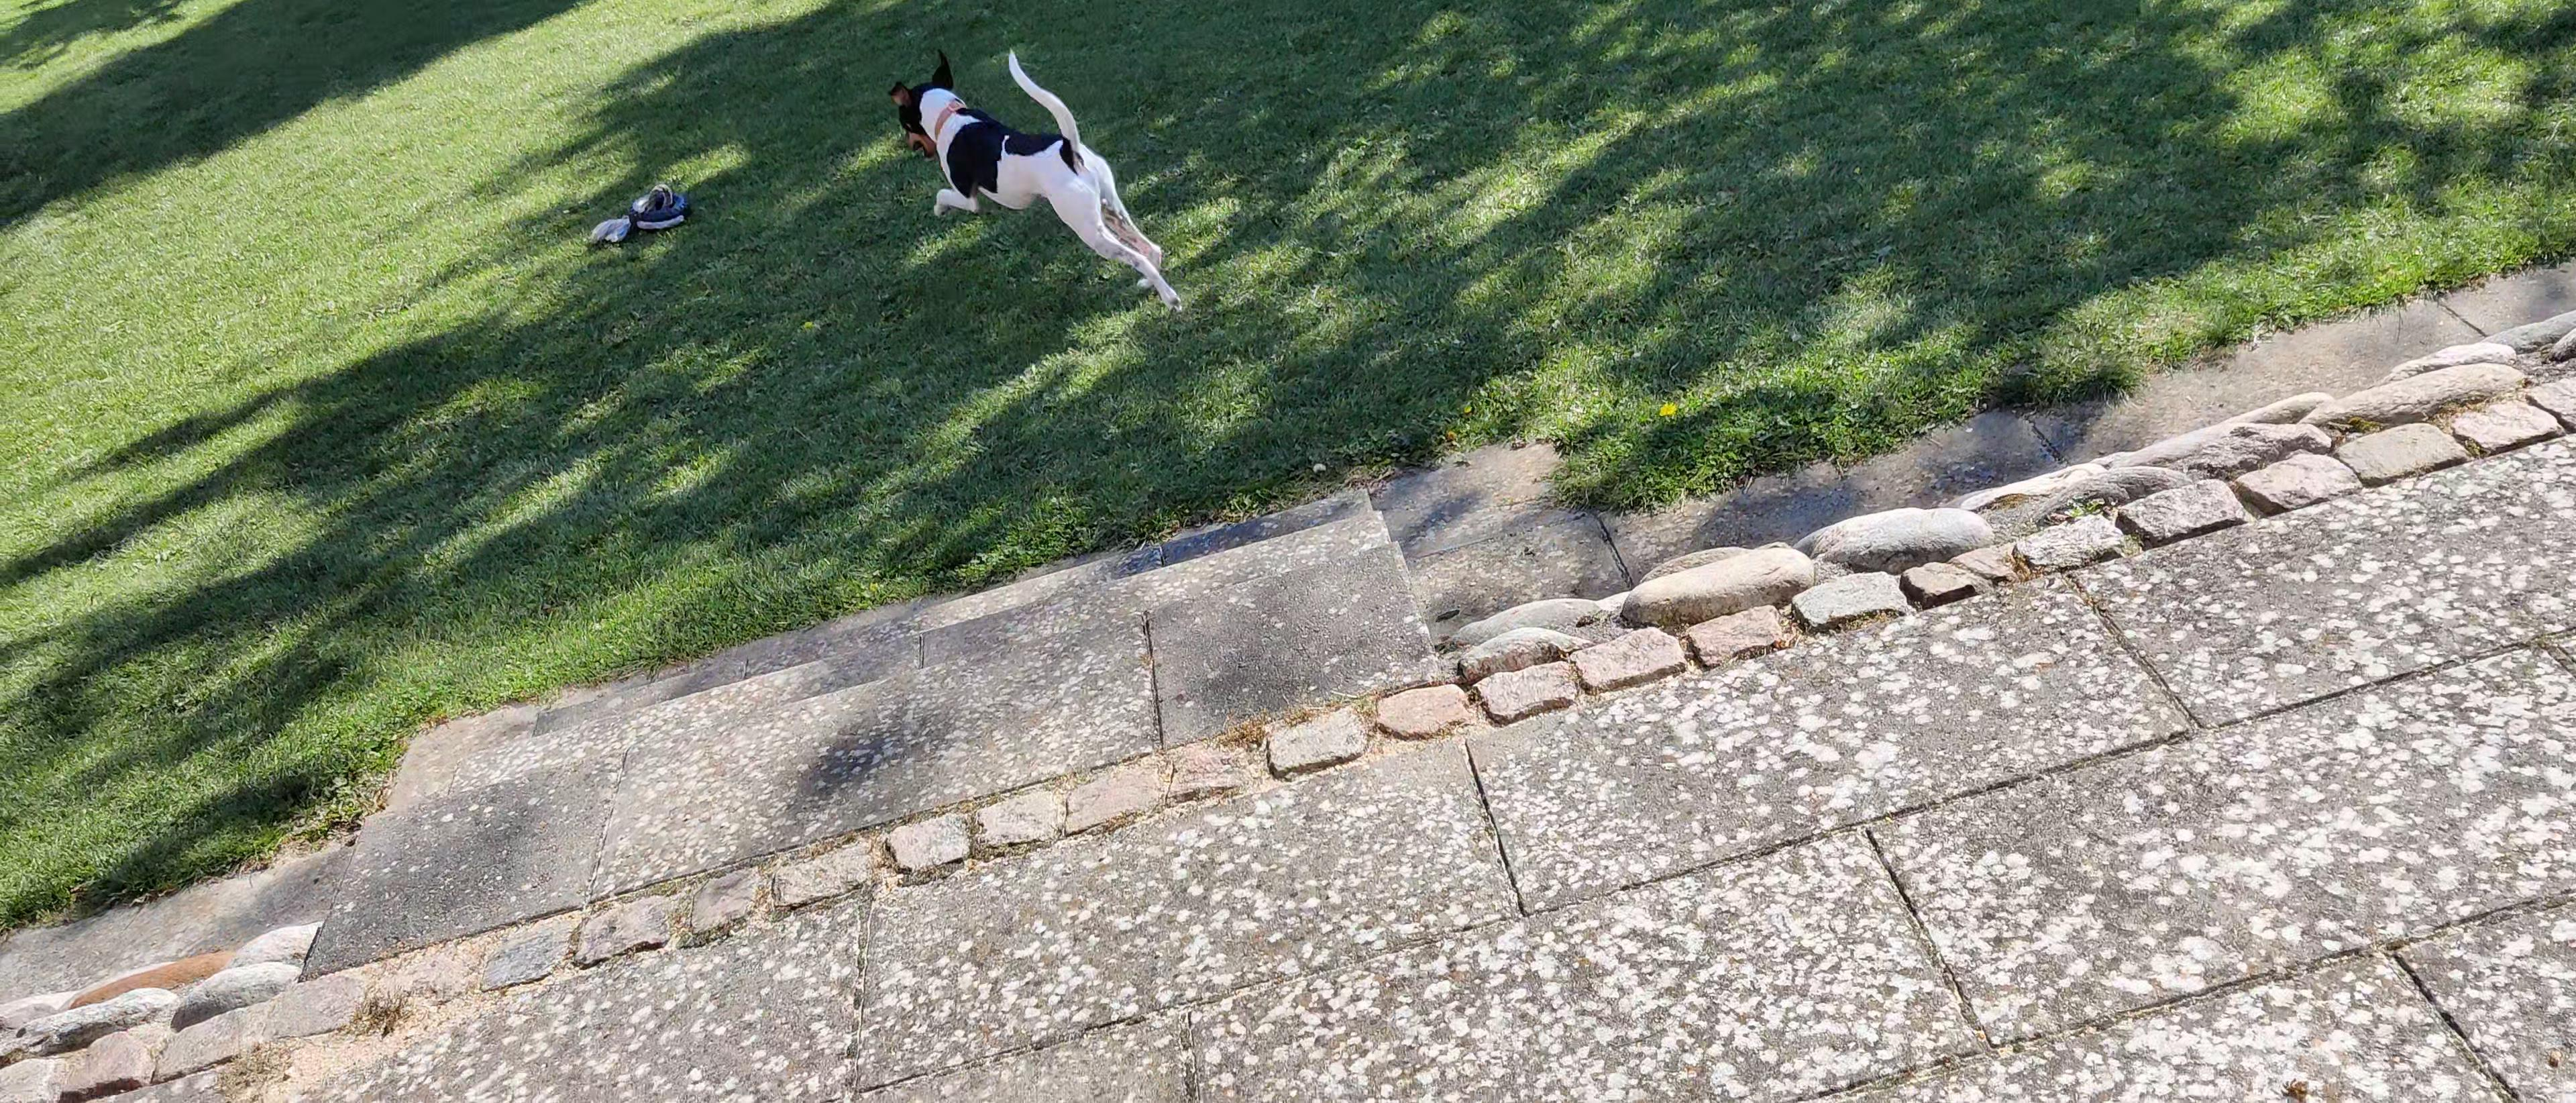Dog: (867, 38, 1199, 329)
